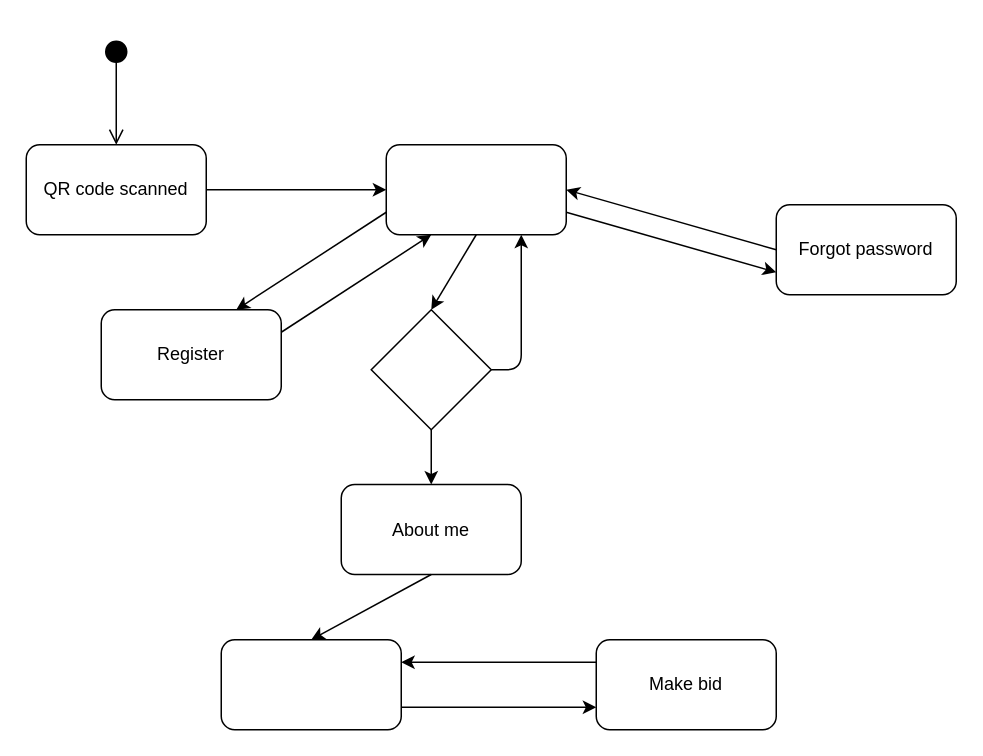
This 983x756 diagram has some shape labels left out. Each missing label, with the centre of its shape:
Item page: the point at 310,684
Log in: the point at 475,189
Verify login: the point at 430,369
